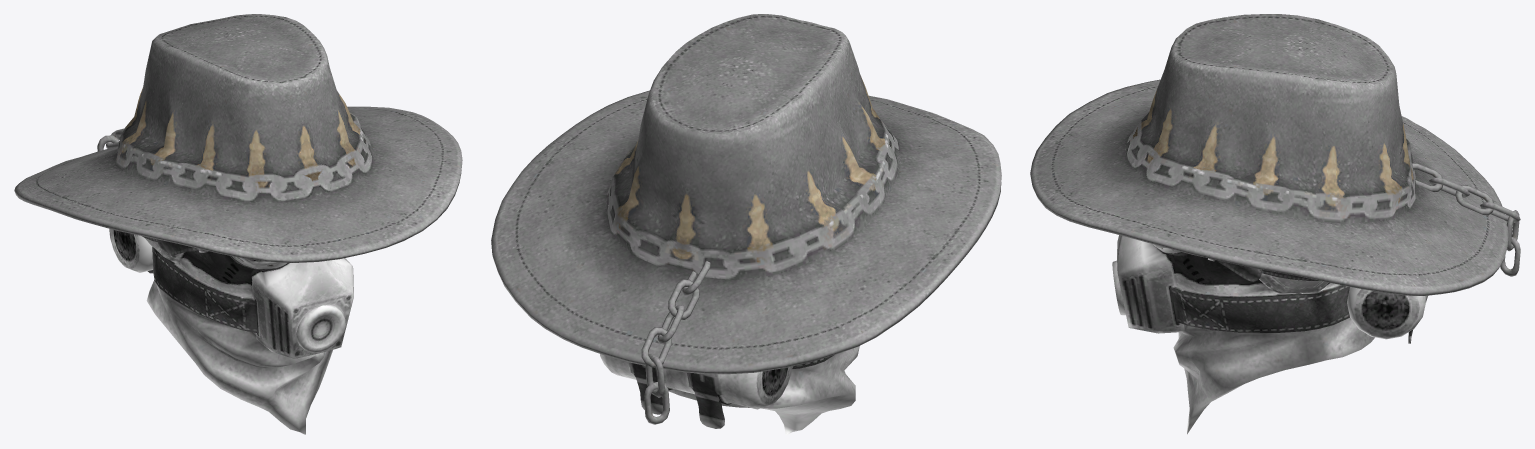
The model's file is SurvivorMale_Head_Helmet_Western_LOD0.glb.
3 renders of one model, left to right at view 1: azimuth 30°, elevation 25°; view 2: azimuth 150°, elevation 25°; view 3: azimuth 270°, elevation 25°, orthographic. The views are drawn at different scales.
Parts seen in each view (by area): view 1: Hoodie; view 2: Hoodie; view 3: Hoodie.
Part boxes in pixels (x1,y1,x2,y2): Hoodie: (14, 14, 462, 434); Hoodie: (491, 14, 1001, 434); Hoodie: (1030, 14, 1520, 434).
Size of the model in its own units: 0.3988 by 0.3778 by 0.4356.
Materials: 1 (1 with a texture image).
